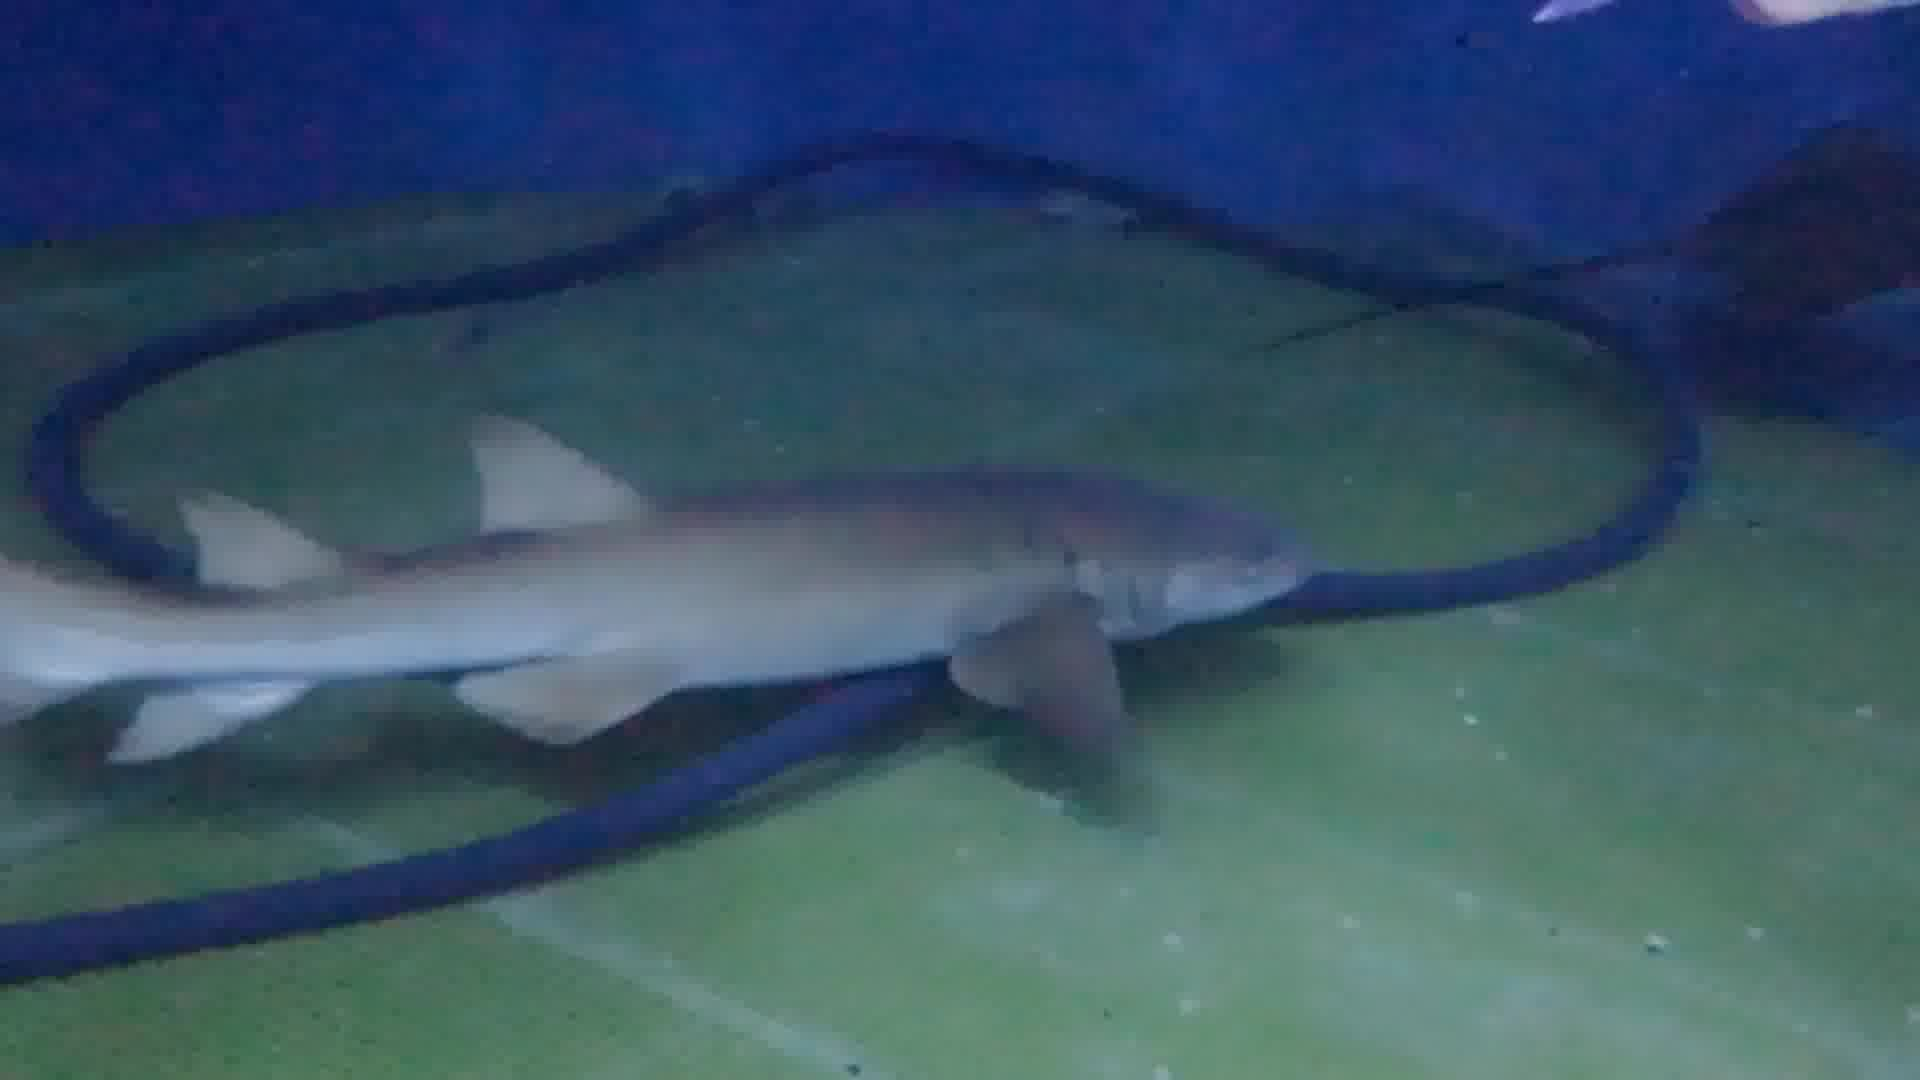Nebrius ferrugineus: (47, 436, 1386, 800)
